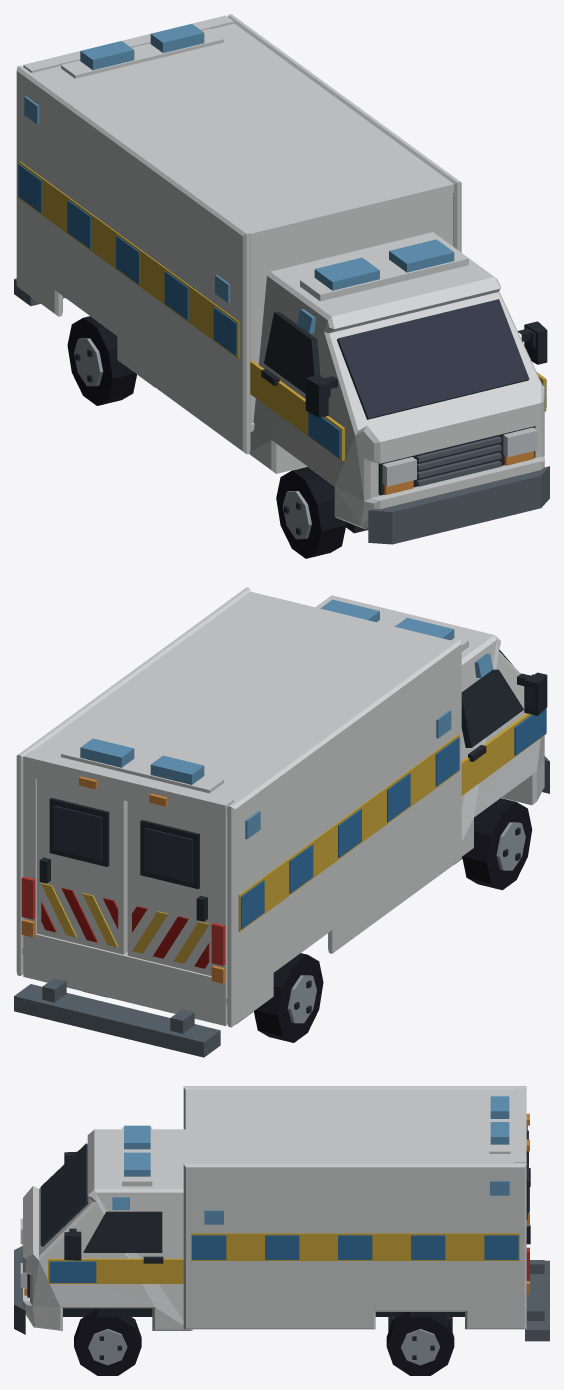
The model's file is ambulance-van-29919a.glb.
3 views of the same model, one above another, from view 1: azimuth 30°, elevation 25°; view 2: azimuth 150°, elevation 25°; view 3: azimuth 270°, elevation 25° (orthographic). The views are drawn at different scales.
Parts seen in each view (by area): view 1: ambulance-van-29919a; view 2: ambulance-van-29919a; view 3: ambulance-van-29919a.
Boxes of the visible parts, bbox=[...] form: ambulance-van-29919a: bbox=[14, 14, 549, 558]; ambulance-van-29919a: bbox=[14, 587, 549, 1057]; ambulance-van-29919a: bbox=[14, 1086, 549, 1375].
Size of the model in its own units: 2.25 by 2.72 by 6.
